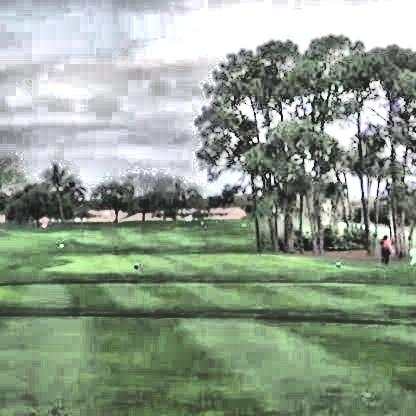golfball: (100, 209, 110, 218)
